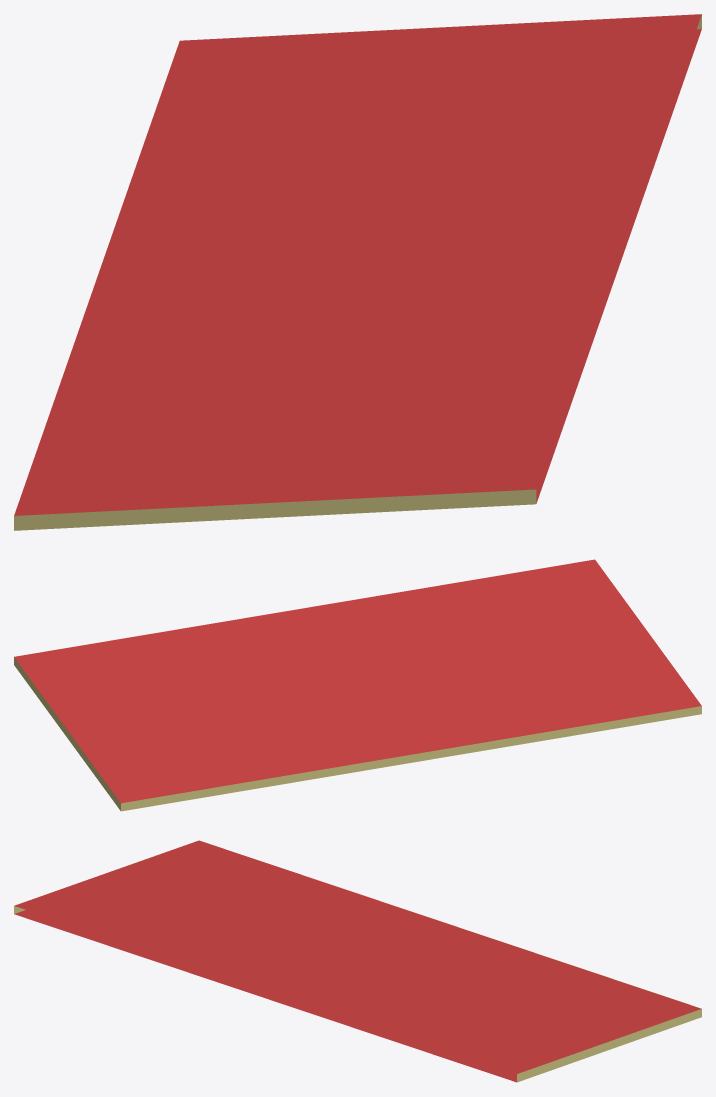
3 views of the same model, one above another, from view 1: azimuth 30°, elevation 25°; view 2: azimuth 150°, elevation 25°; view 3: azimuth 270°, elevation 25° (orthographic). The views are drawn at different scales.
Bounding box in the file's own units: 6.82 × 7.43 × 0.497.
